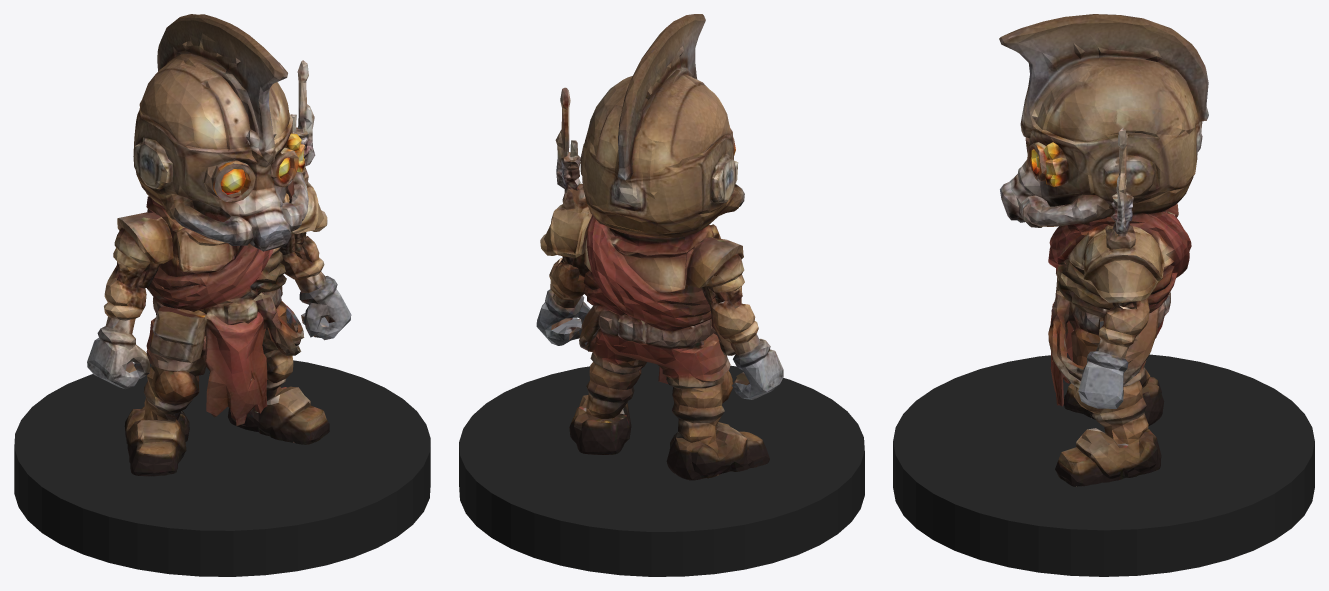
The model's file is hc-skitarii-vanguard-diktat.glb.
3 views of the same model, side by side, from view 1: azimuth 30°, elevation 25°; view 2: azimuth 150°, elevation 25°; view 3: azimuth 270°, elevation 25° (orthographic). The views are drawn at different scales.
Visible parts, largest first — view 1: figure, base; view 2: figure, base; view 3: base, figure.
Boxes of the visible parts, box(x1,y1,x2,y2) form: figure: box(87, 14, 351, 476); base: box(14, 360, 430, 576); figure: box(536, 14, 783, 480); base: box(459, 362, 864, 576); base: box(893, 354, 1314, 576); figure: box(999, 14, 1208, 486).
Bounding box in the file's own units: 0.9843 × 1.22 × 0.9843.
Materials: 2 (1 with a texture image).
